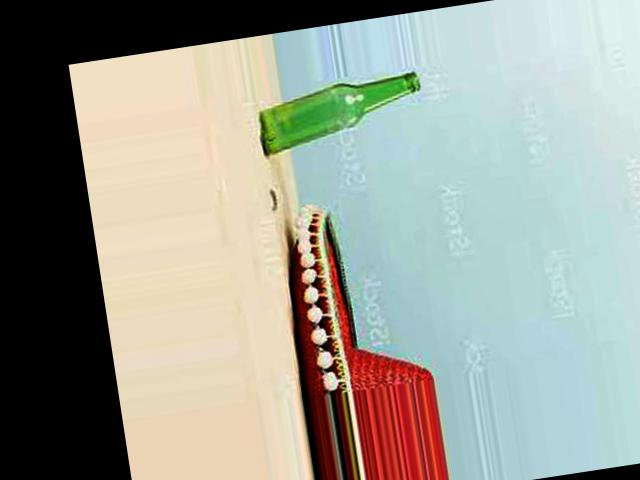beer: (251, 72, 428, 157)
